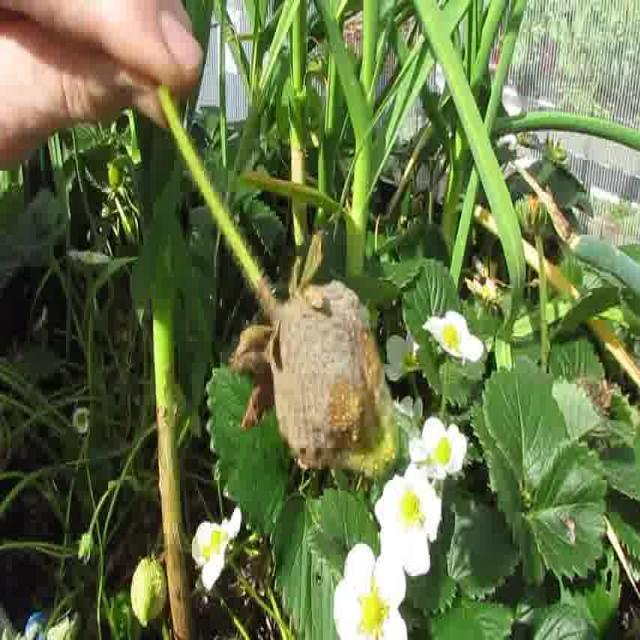Fruta sana: (130, 555, 169, 627), (75, 530, 95, 564)
Moho gris: (270, 280, 402, 477)
